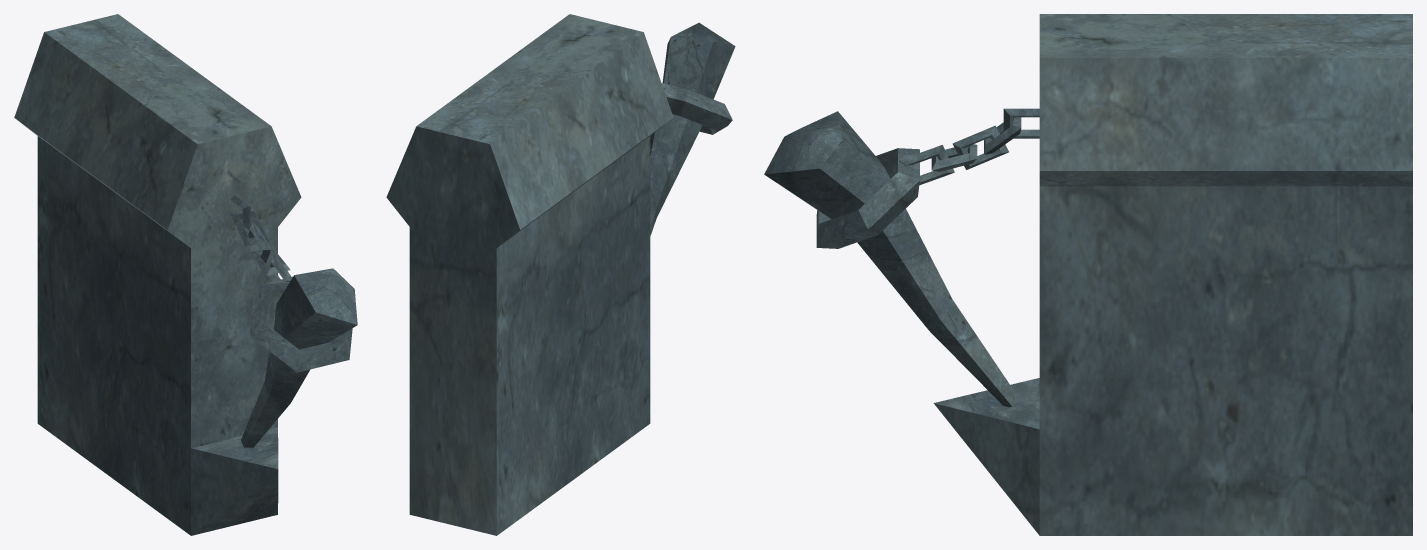
Rendered from tochaSemChama.obj.
3 renders of one model, left to right at view 1: azimuth 30°, elevation 25°; view 2: azimuth 150°, elevation 25°; view 3: azimuth 270°, elevation 25°, orthographic. The views are drawn at different scales.
Visible parts, largest first — view 1: polySurface13; view 2: polySurface13; view 3: polySurface13.
Part boxes in pixels (<box>): polySurface13: <box>14,14,357,535</box>; polySurface13: <box>386,14,735,535</box>; polySurface13: <box>764,14,1412,535</box>.
Size of the model in its own units: 0.6701 by 1.87 by 2.31.
